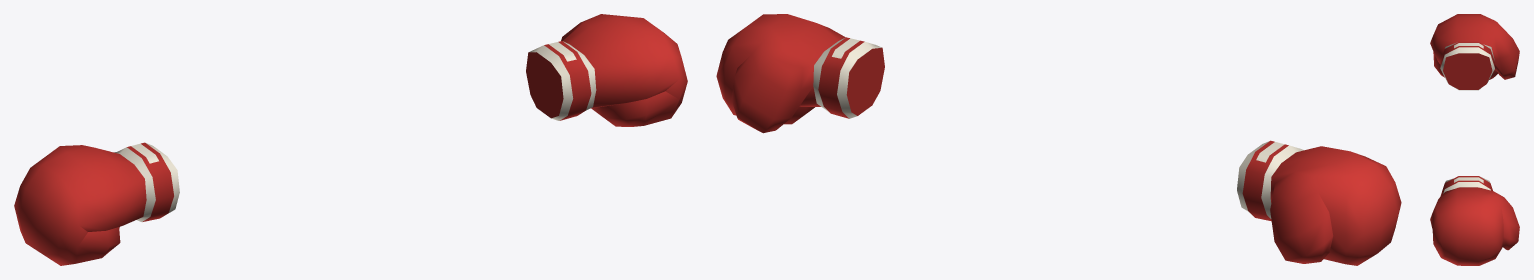
Rendered from Glove_7.fbx.
3 views of the same model, side by side, from view 1: azimuth 30°, elevation 25°; view 2: azimuth 150°, elevation 25°; view 3: azimuth 270°, elevation 25° (orthographic). The views are drawn at different scales.
Visible parts, largest first — view 1: Glove_7; view 2: Glove_7; view 3: Glove_7.
Boxes of the visible parts, box(x1,y1,x2,y2) form: Glove_7: box(14, 14, 687, 265); Glove_7: box(716, 14, 1401, 265); Glove_7: box(1430, 14, 1519, 265).
Size of the model in its own units: 139 by 19.49 by 25.26.
